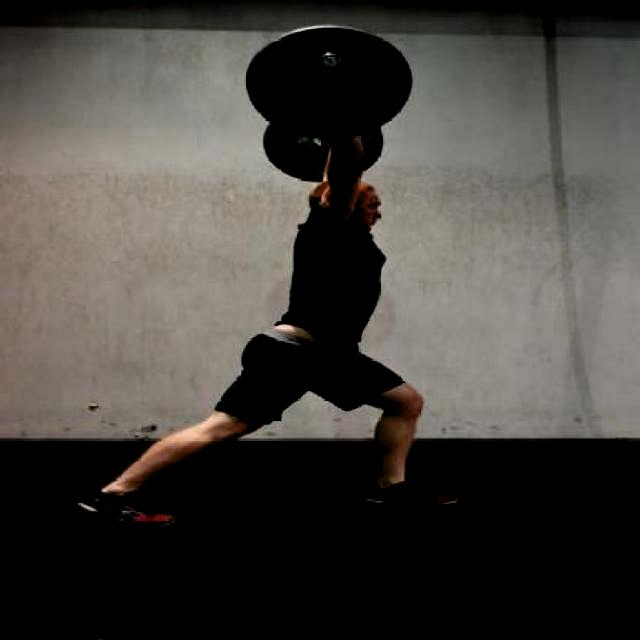barbell: (242, 17, 420, 143)
